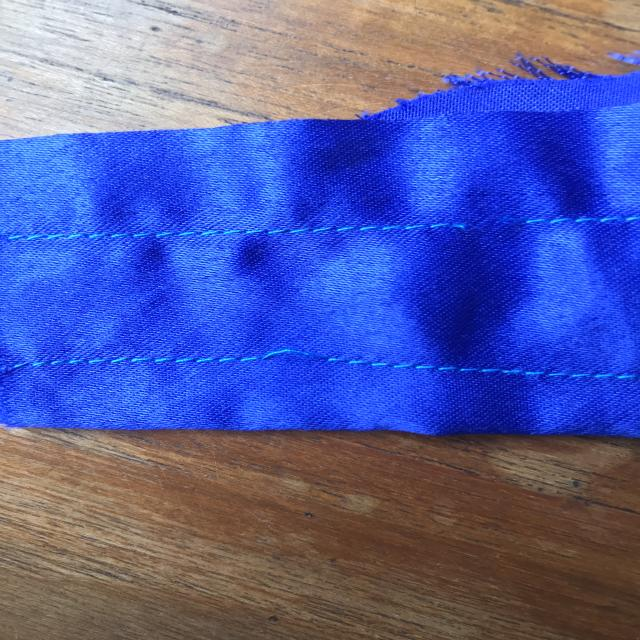broken: (413, 200, 545, 248)
good: (108, 216, 292, 250)
skip: (235, 332, 338, 377)
